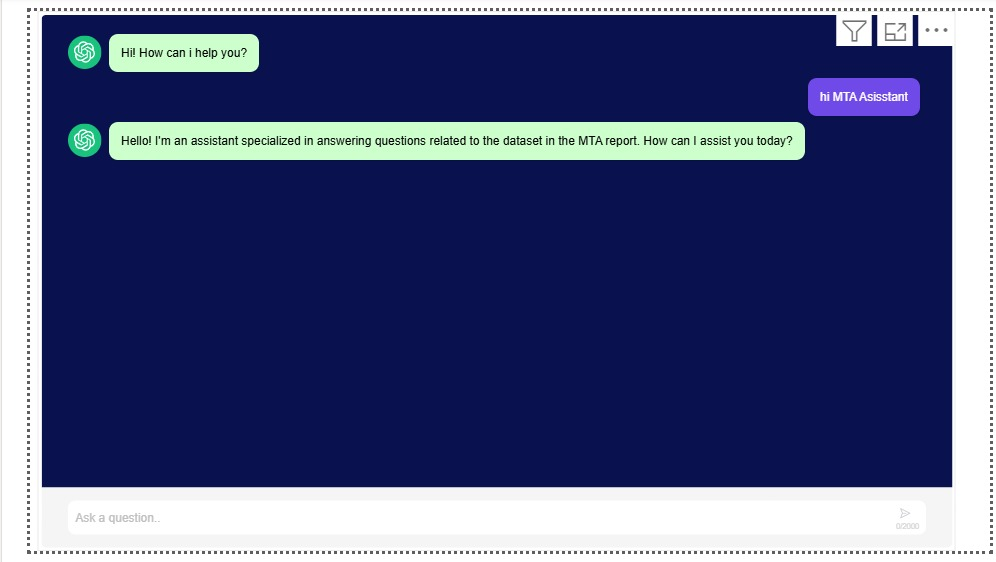

Layout of this report page (visuals, bound fields, positions):
{"tool":"powerbi","page":{"name":"Chatbot","canvas":[1280,720],"ordinal":3},"visuals":[{"type":"chatpowerbi_ai","fields":{"values":["Test1.Date.Variation.Date Hierarchy.Year","Test1.Date.Variation.Date Hierarchy.Quarter","Test1.Date.Variation.Date Hierarchy.Month","Test1.Date.Variation.Date Hierarchy.Day","Sum(Test1.Access-A-Ride: % of Comparable Pre-Pandemic Day)","Sum(Test1.Access-A-Ride: Total Scheduled Trips)","Sum(Test1.Bridges and Tunnels: % of Comparable Pre-Pandemic Day)","Sum(Test1.Bridges and Tunnels: Total Traffic)","Sum(Test1.Buses: % of Comparable Pre-Pandemic Day)","Sum(Test1.Buses: Total Estimated Ridership)","Sum(Test1.LIRR: % of Comparable Pre-Pandemic Day)","Sum(Test1.LIRR: Total Estimated Ridership)"]},"box":[10,0,1224,720],"z":0}]}

Visuals, with their boxes in screenshot pixels (x1, y1, x2, y2), scaled from the page's 1280x720 canvas onto the 996x562 screenshot:
chatpowerbi_ai - Test1.Date.Variation.Date Hierarchy.Year x Test1.Date.Variation.Date Hierarchy.Quarter: BBox(8, 0, 960, 561)
